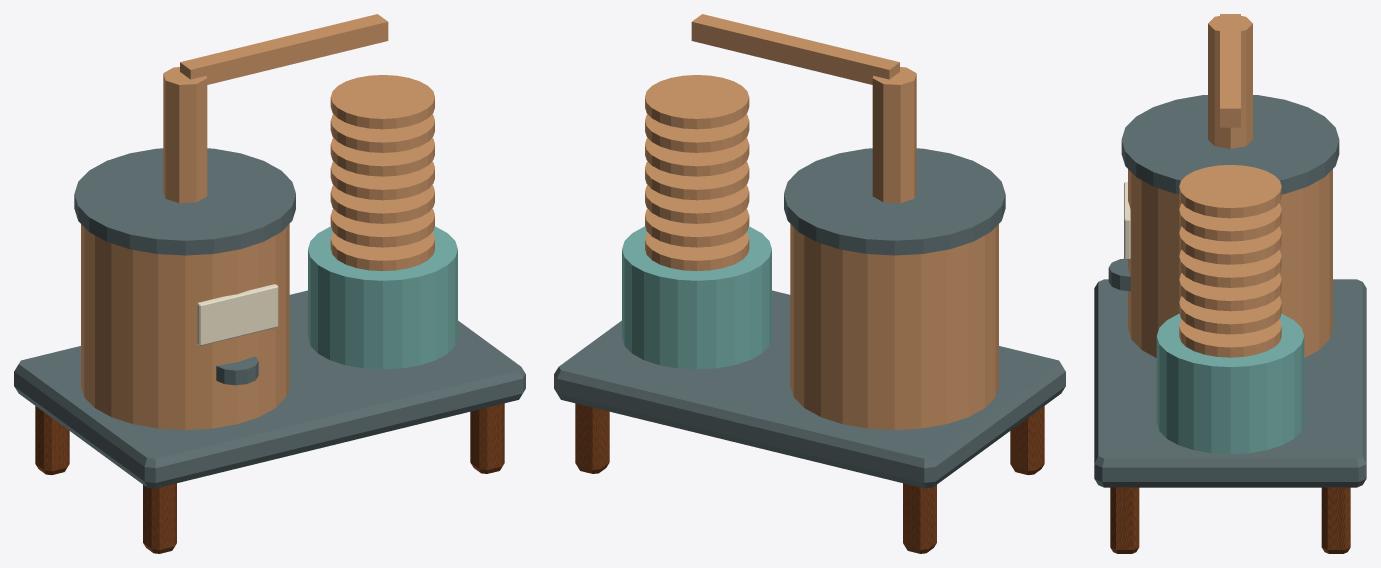
The model's file is ocean-raft-settlement-ocean-raft-settlement-desalinati-e278dbaa__28918.glb.
3 views of the same model, side by side, from view 1: azimuth 30°, elevation 25°; view 2: azimuth 150°, elevation 25°; view 3: azimuth 270°, elevation 25° (orthographic).
Parts seen in each view (by area): view 1: copper, iron, teal, wood, canvas; view 2: copper, iron, teal, wood; view 3: iron, copper, teal, wood, canvas.
Part boxes in pixels (bbox=[...]): copper: bbox=[81, 14, 434, 429]; iron: bbox=[14, 148, 525, 488]; teal: bbox=[308, 226, 457, 369]; wood: bbox=[35, 403, 504, 553]; canvas: bbox=[197, 284, 278, 345]; copper: bbox=[645, 14, 998, 429]; iron: bbox=[554, 148, 1065, 488]; teal: bbox=[622, 226, 771, 369]; wood: bbox=[575, 403, 1044, 553]; iron: bbox=[1094, 95, 1366, 487]; copper: bbox=[1128, 14, 1332, 357]; teal: bbox=[1156, 313, 1304, 454]; wood: bbox=[1110, 487, 1350, 553]; canvas: bbox=[1124, 182, 1130, 259].
Bounding box in the file's own units: 1.35 × 1.43 × 0.85.
Materials: 5 (1 with a texture image).
